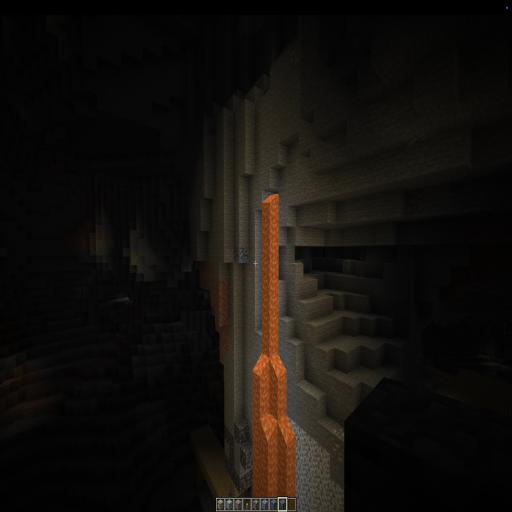iron ore: (329, 418, 345, 467)
lapis ore: (229, 243, 252, 269)
